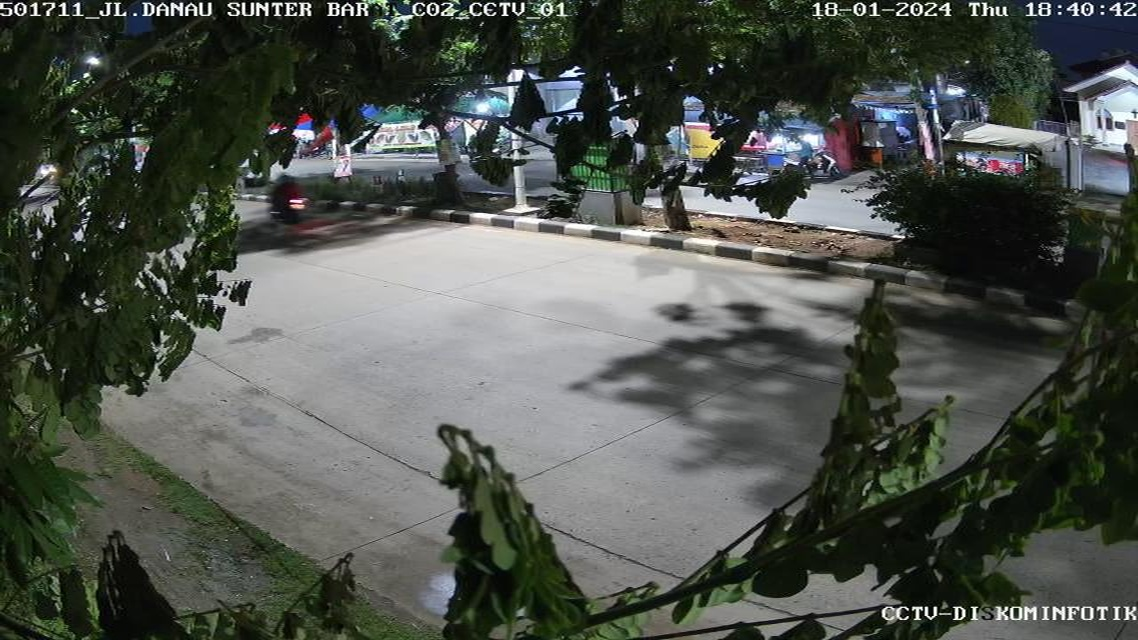Gerobak: (662, 96, 725, 180), (761, 118, 830, 174), (855, 114, 905, 168)
